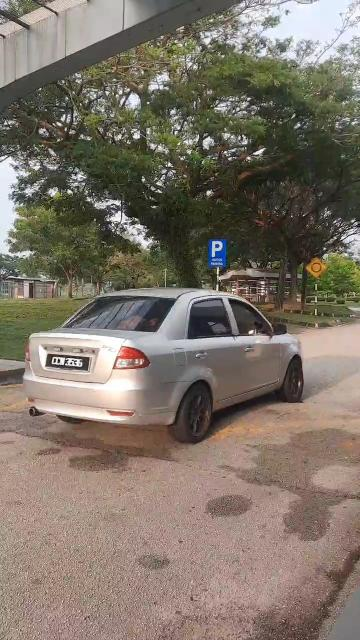License_Plate: (44, 351, 95, 378)
car: (16, 273, 311, 449)
